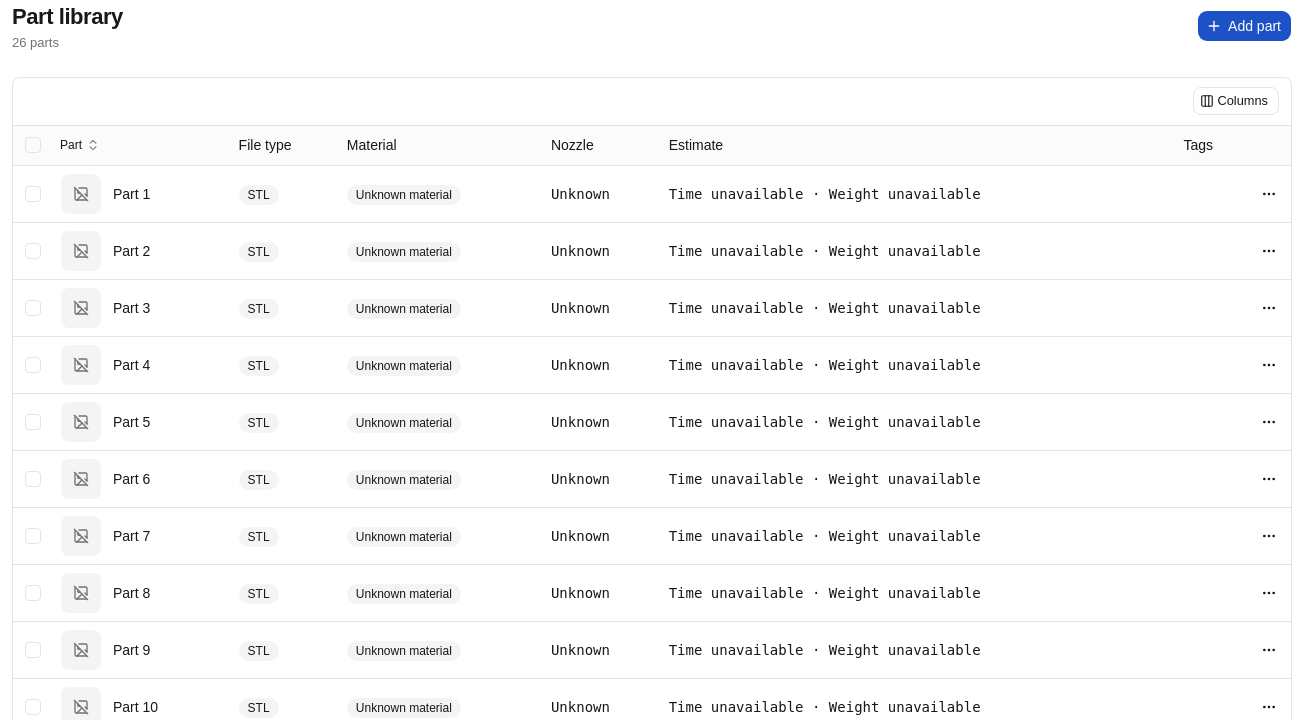
keeps previous rows after a failed sort and retries the same requested order
Expected: the link "Part 1" is shown, [113, 184, 150, 204]
Click the button "Part" at (82, 145), box [53, 131, 111, 159]
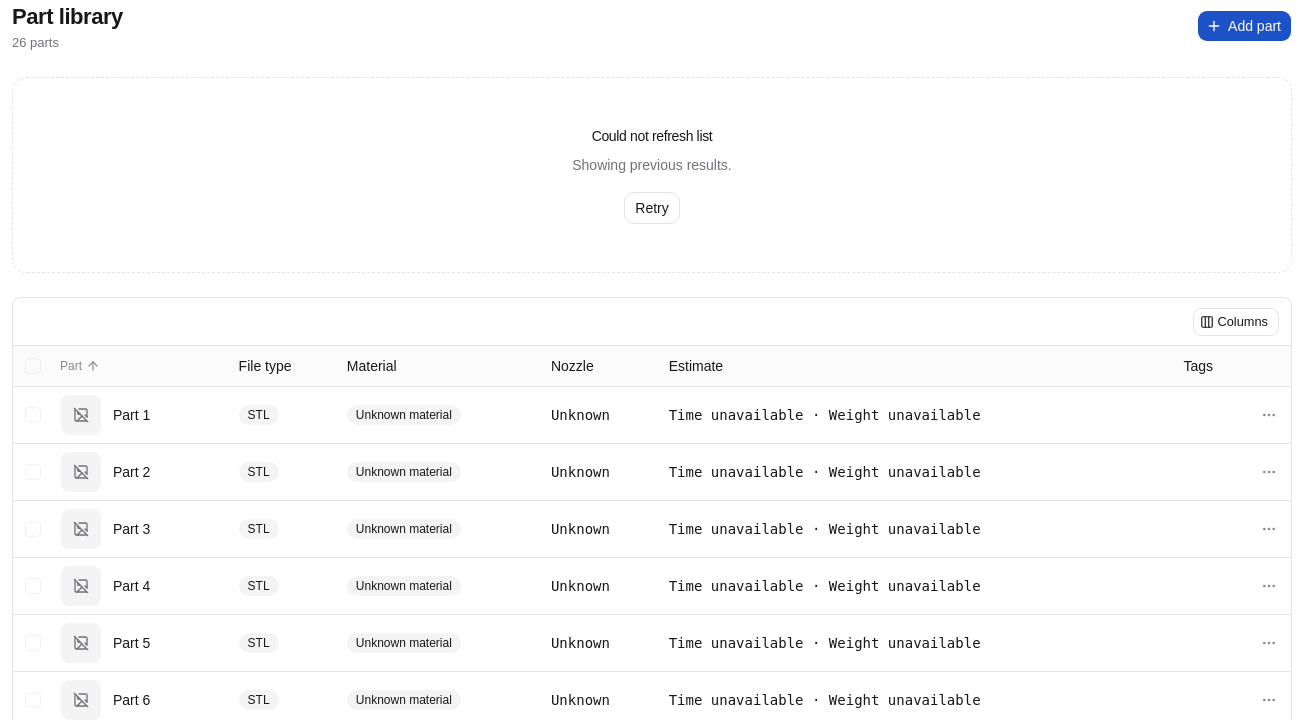
Expected: the link "Part 1" is shown, [113, 405, 150, 425]
Result: the text "Could not refresh list" is shown at [592, 126, 712, 146]
Result: the button "Part" is disabled at [53, 352, 111, 380]
Click the button "Retry" at (652, 208), box [624, 192, 680, 224]
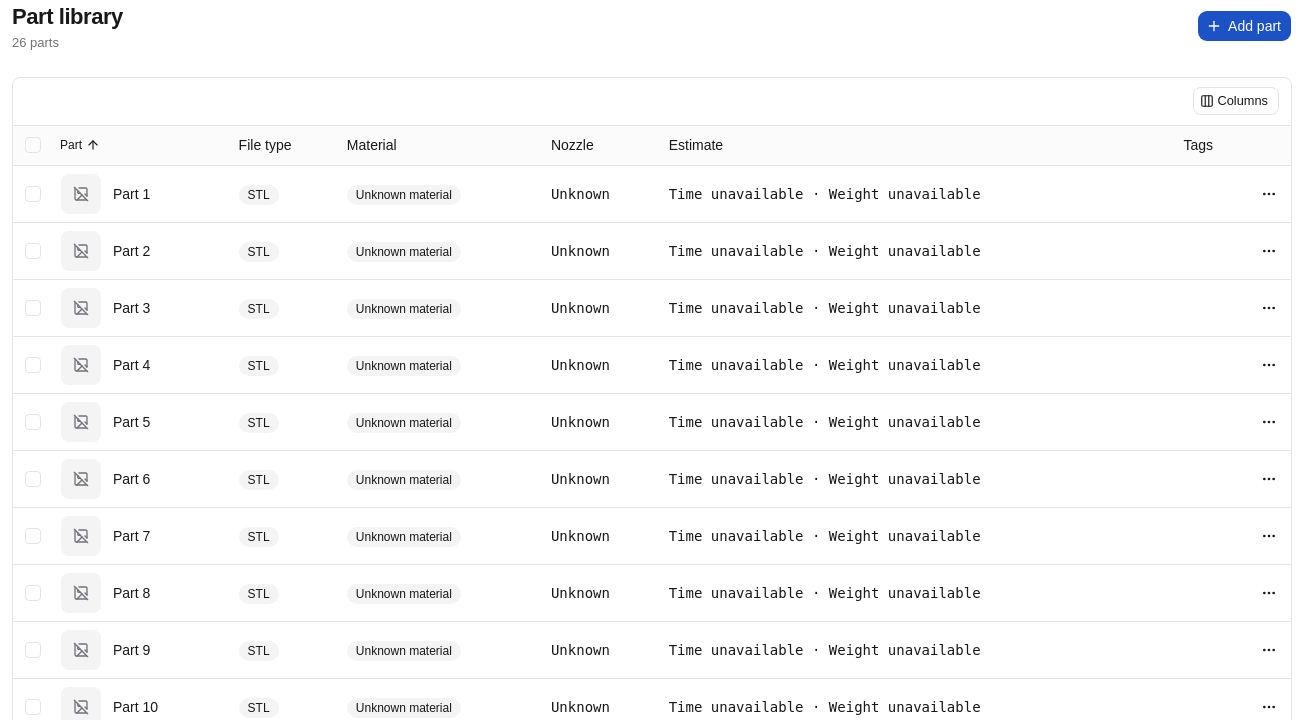
Result: the button "Part" is enabled at [53, 131, 111, 159]
